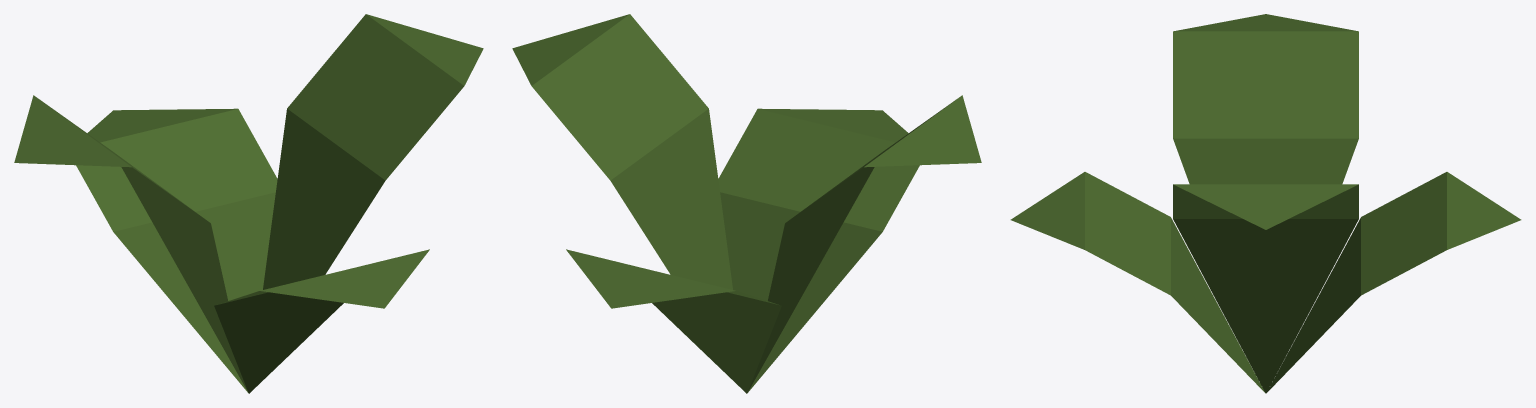
File: plant_bush.glb
3 views of the same model, side by side, from view 1: azimuth 30°, elevation 25°; view 2: azimuth 150°, elevation 25°; view 3: azimuth 270°, elevation 25° (orthographic). The views are drawn at different scales.
Parts seen in each view (by area): view 1: plant_bush; view 2: plant_bush; view 3: plant_bush.
Part boxes in pixels (left/top/right/bottom): plant_bush: left=14, top=14, right=483, bottom=393; plant_bush: left=512, top=14, right=981, bottom=393; plant_bush: left=1010, top=14, right=1521, bottom=393.
Bounding box in the file's own units: 0.396 × 0.2444 × 0.396.
